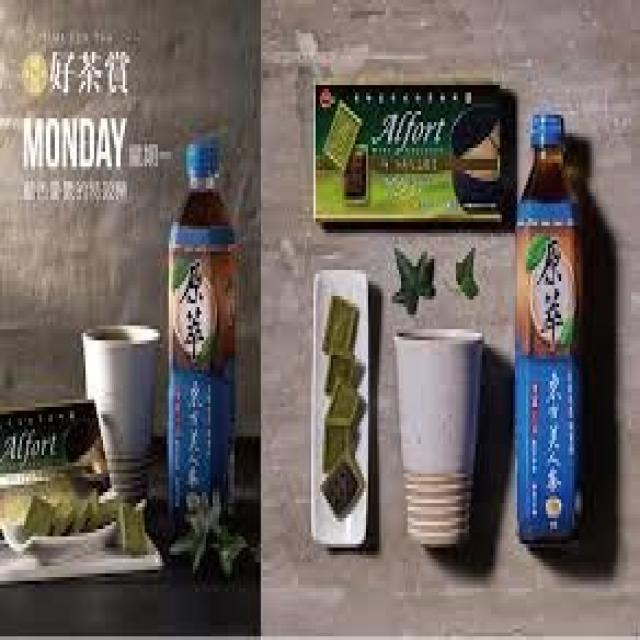YuanTsui_MeiRen: (508, 109, 598, 566), (163, 132, 242, 542)
